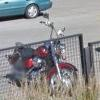Motorcycle: (10, 36, 90, 97)
